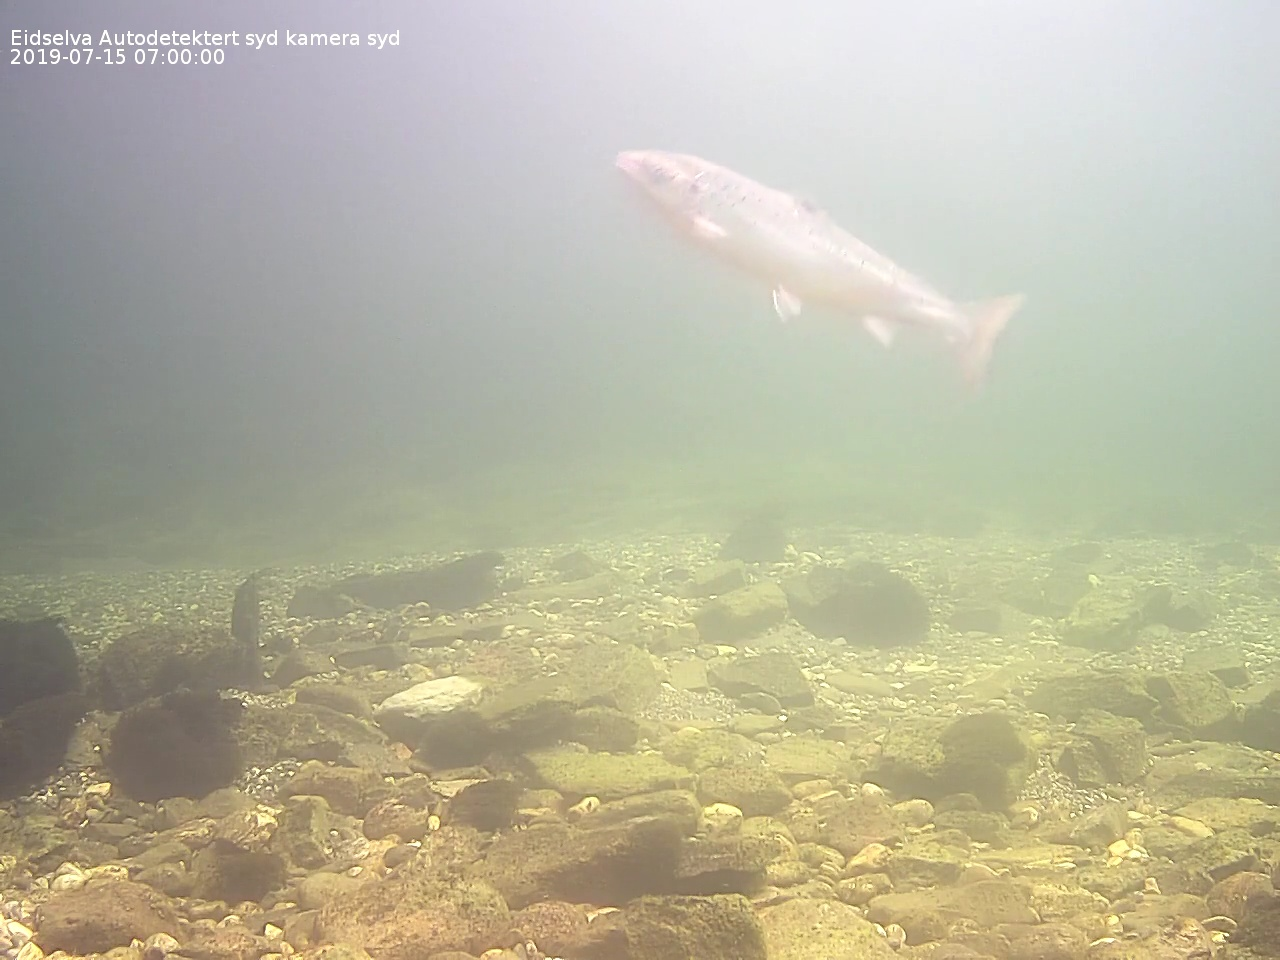salmon: (607, 139, 1039, 391)
